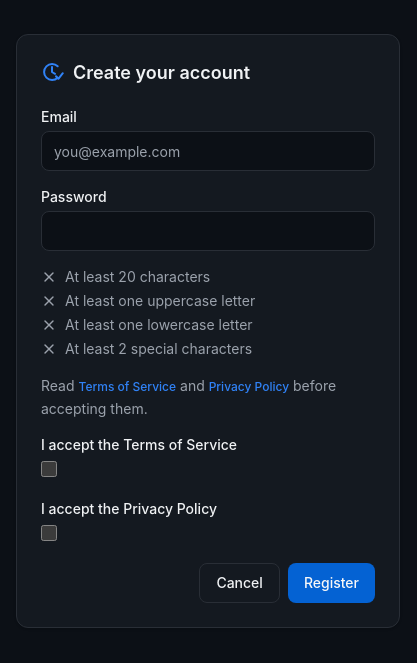
Test case: UserCreationPage › shows error when email is already taken
Type "dup@example.com" into the field named "email". click: (208, 151)
box: 41,131 -> 375,171
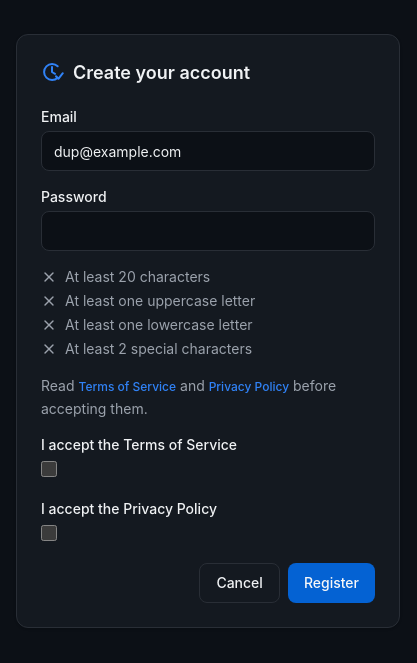
Type "Str0ng-Passphrase!!x" into the password field named "password". click: (208, 231)
box: 41,211 -> 375,251
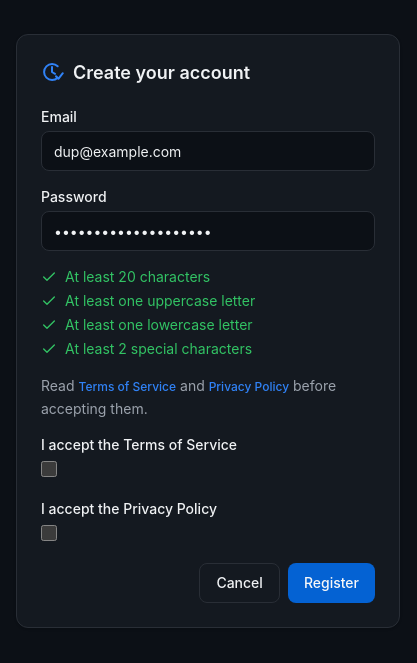
Click the checkbox labelled "I accept the Terms of Service". click: (49, 469)
box: 41,461 -> 57,477
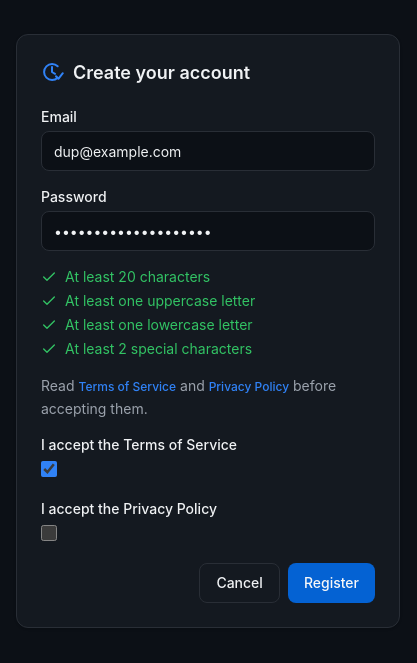
Click the checkbox labelled "I accept the Privacy Policy". click: (49, 533)
box: 41,525 -> 57,541
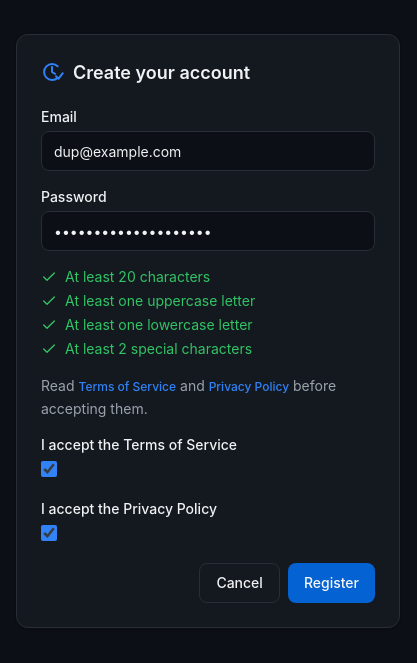
Click the button "Register". click: (331, 583)
box: 288,563 -> 375,603
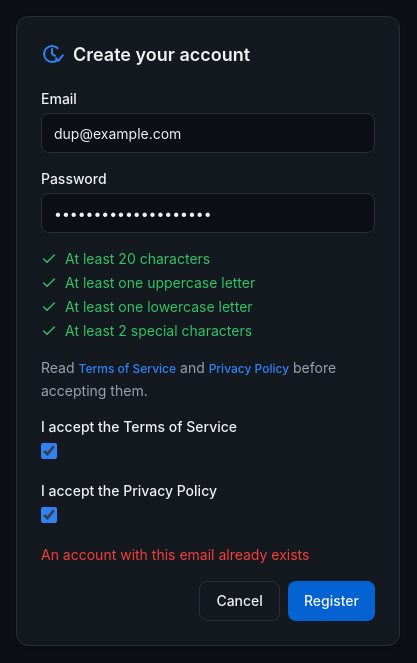
Result: the message "An account with this email already exists" is shown at 41,546 -> 309,563
